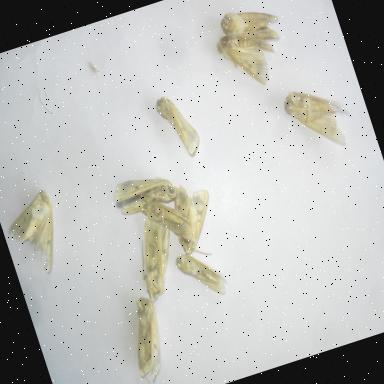abw: (276, 73, 362, 162), (0, 184, 73, 284), (122, 209, 194, 307), (112, 288, 181, 384), (162, 174, 230, 260), (207, 20, 278, 100), (132, 183, 198, 256), (148, 84, 208, 164), (106, 162, 182, 222), (170, 240, 234, 309), (212, 0, 287, 57)
